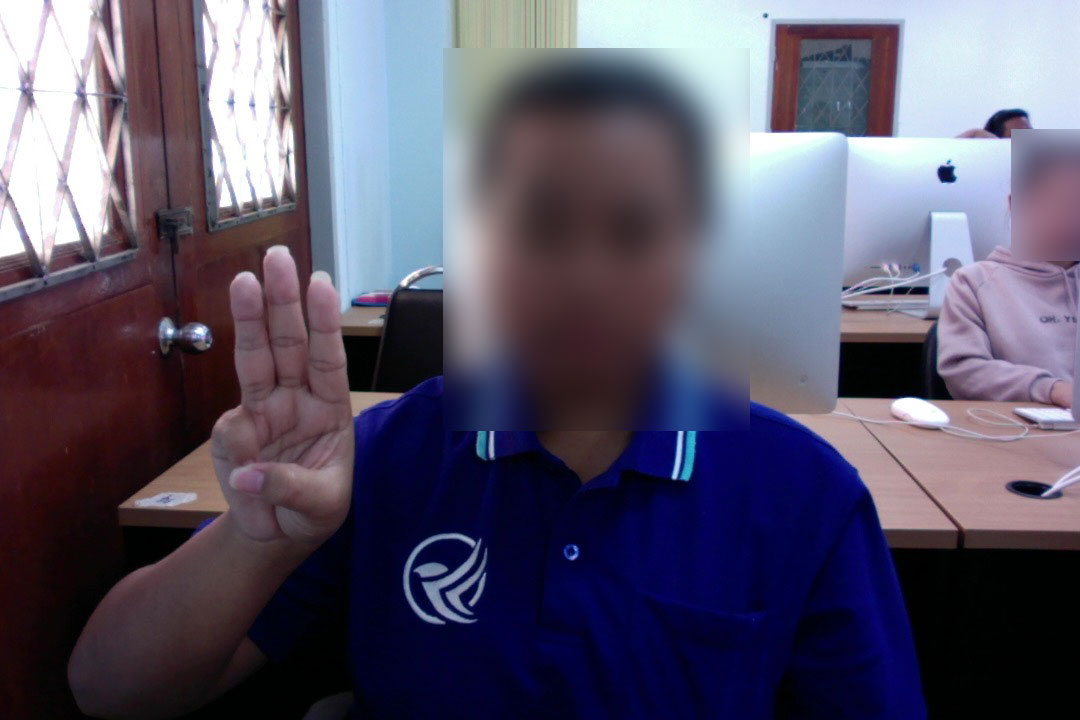wor: (195, 252, 378, 553)
